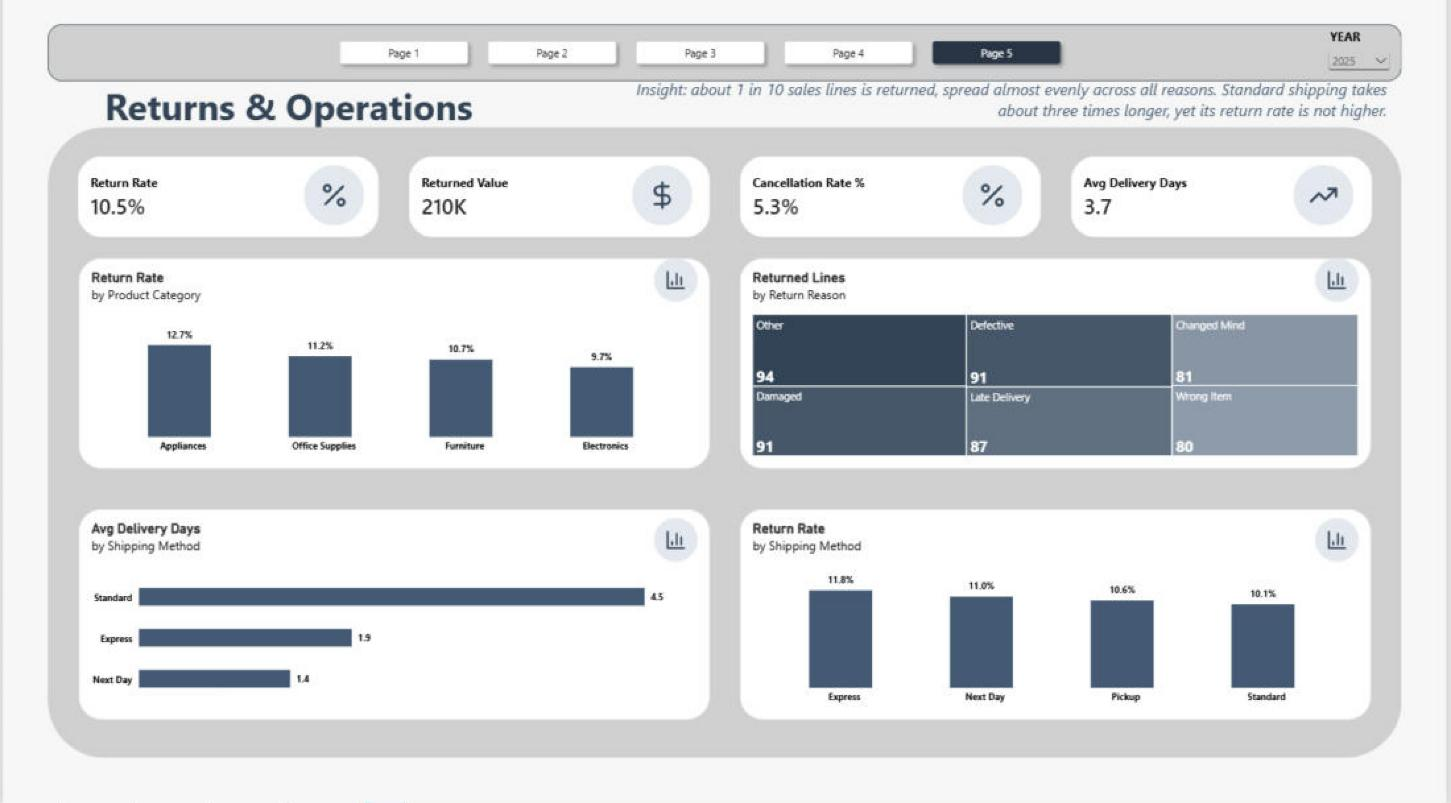

The dashboard page shown, as its layout file describes it:
{"tool":"powerbi","page":{"name":"Page 5","canvas":[1920,1080],"ordinal":4},"visuals":[{"type":"shape","box":[59.8,43.8,1800.4,75.9],"z":0},{"type":"shape","box":[59.8,180.9,1800.4,838.9],"z":0,"group":"g1"},{"type":"textbox","title":"Returns & Operations","box":[135.7,119.6,1000,61.3],"z":1000},{"type":"group","id":"g1","title":"Group 1","box":[59.8,180.9,1800.4,838.9],"z":2000},{"type":"cardVisual","fields":{"Data":["vw_valid_sales.Return Rate (Lines) %"]},"box":[100,219.6,400,108.9],"z":3000,"group":"g1"},{"type":"image","box":[813.7,231.8,125.5,80.2],"z":3000},{"type":"slicer","fields":{"Values":["vw_valid_sales.Order_Year"]},"box":[1757.1,49.9,93.1,63.2],"z":4000},{"type":"cardVisual","fields":{"Data":["vw_valid_sales.Returned Value"]},"box":[540,219,400,108.9],"z":4000,"group":"g1"},{"type":"cardVisual","fields":{"Data":["vw_valid_sales.Cancellation Rate %"]},"box":[980,219,400,108.9],"z":5000,"group":"g1"},{"type":"image","box":[850.1,355.7,90,57.6],"z":5000},{"type":"cardVisual","fields":{"Data":["vw_valid_sales.Avg Delivery Days"]},"box":[1420,219,400,108.9],"z":6000,"group":"g1"},{"type":"image","box":[1729.6,355.7,90,57.6],"z":6000},{"type":"columnChart","fields":{"Category":["sales_transactions.Product_Category"],"Y":["vw_valid_sales.Return Rate (Lines) %"]},"box":[100.7,355.7,838.9,279.8],"z":7000,"group":"g1"},{"type":"image","box":[1729.6,701,90,57.6],"z":7000},{"type":"treemap","title":"Returned Lines","fields":{"Group":["sales_transactions.Return_Reason"],"Values":["vw_valid_sales.Returned Lines"]},"box":[980.4,355.7,838.9,279.8],"z":8000,"group":"g1"},{"type":"image","box":[850.1,701,90,57.6],"z":8000},{"type":"image","box":[377.2,231.8,125.5,80.2],"z":9000},{"type":"barChart","fields":{"Category":["vw_valid_sales.Shipping_Method"],"Y":["vw_valid_sales.Avg Delivery Days"]},"box":[100.7,689.5,838.9,279.8],"z":9000,"group":"g1"},{"type":"pageNavigator","box":[439.1,56.9,980.4,49.6],"z":10000},{"type":"columnChart","fields":{"Category":["sales_transactions.Shipping_Method"],"Y":["vw_valid_sales.Return Rate (Lines) %"]},"box":[980.4,689.5,838.9,279.8],"z":10000,"group":"g1"},{"type":"image","box":[1693.3,231.8,125.5,80.2],"z":11000},{"type":"image","box":[1253.5,231.8,125.5,80.2],"z":12000},{"type":"textbox","box":[840,116,1000,64],"z":13000}]}

Visuals, with their boxes in screenshot pixels (x1, y1, x2, y2), scaled from the page's 1920x1080 canvas onto the 1451x803 screenshot:
shape: bbox(45, 33, 1406, 89)
shape: bbox(45, 135, 1406, 758)
"Returns & Operations" textbox: bbox(103, 89, 858, 135)
"Group 1" group: bbox(45, 135, 1406, 758)
cardVisual - vw_valid_sales.Return Rate (Lines) %: bbox(76, 163, 378, 244)
image: bbox(615, 172, 710, 232)
slicer - vw_valid_sales.Order_Year: bbox(1328, 37, 1398, 84)
cardVisual - vw_valid_sales.Returned Value: bbox(408, 163, 710, 244)
cardVisual - vw_valid_sales.Cancellation Rate %: bbox(741, 163, 1043, 244)
image: bbox(642, 264, 710, 307)
cardVisual - vw_valid_sales.Avg Delivery Days: bbox(1073, 163, 1375, 244)
image: bbox(1307, 264, 1375, 307)
columnChart - sales_transactions.Product_Category x vw_valid_sales.Return Rate (Lines) %: bbox(76, 264, 710, 473)
image: bbox(1307, 521, 1375, 564)
"Returned Lines" treemap: bbox(741, 264, 1375, 473)
image: bbox(642, 521, 710, 564)
image: bbox(285, 172, 380, 232)
barChart - vw_valid_sales.Shipping_Method x vw_valid_sales.Avg Delivery Days: bbox(76, 513, 710, 721)
pageNavigator: bbox(332, 42, 1073, 79)
columnChart - sales_transactions.Shipping_Method x vw_valid_sales.Return Rate (Lines) %: bbox(741, 513, 1375, 721)
image: bbox(1280, 172, 1375, 232)
image: bbox(947, 172, 1042, 232)
textbox: bbox(635, 86, 1391, 134)
